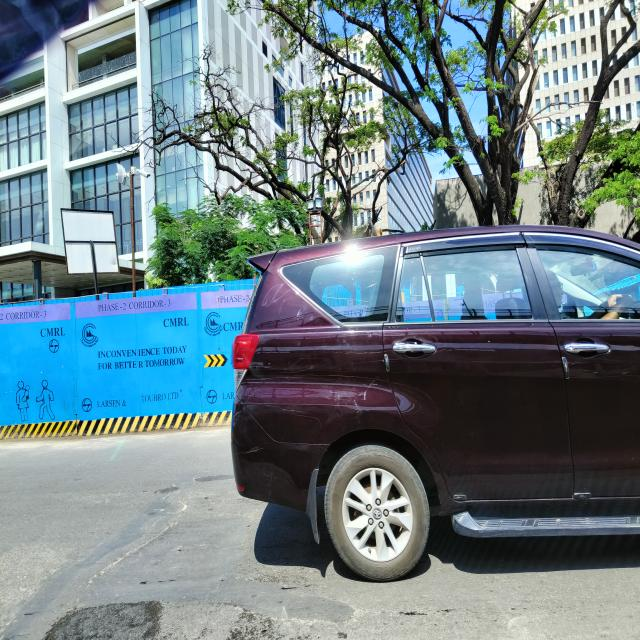scratch: (264, 373, 389, 386), (289, 414, 324, 432), (246, 404, 306, 414), (247, 364, 300, 373), (301, 358, 333, 372), (232, 446, 264, 458), (353, 356, 384, 366), (390, 380, 410, 388)
